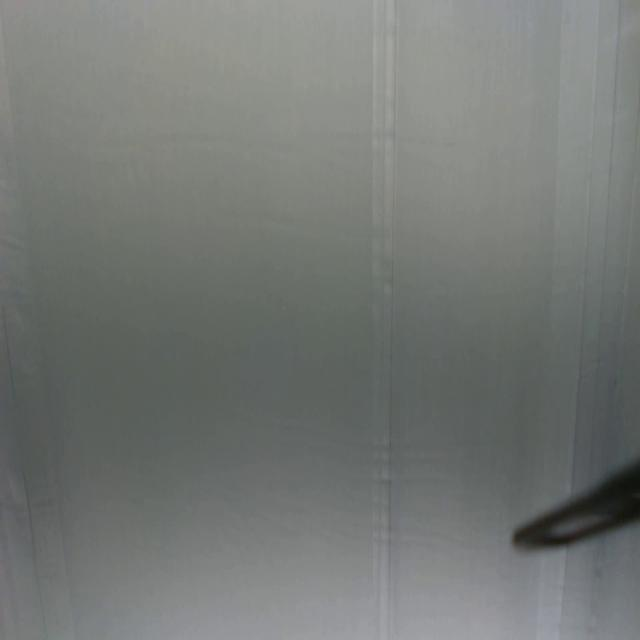crease: (0, 34, 78, 638), (550, 1, 640, 465), (369, 0, 399, 638)
